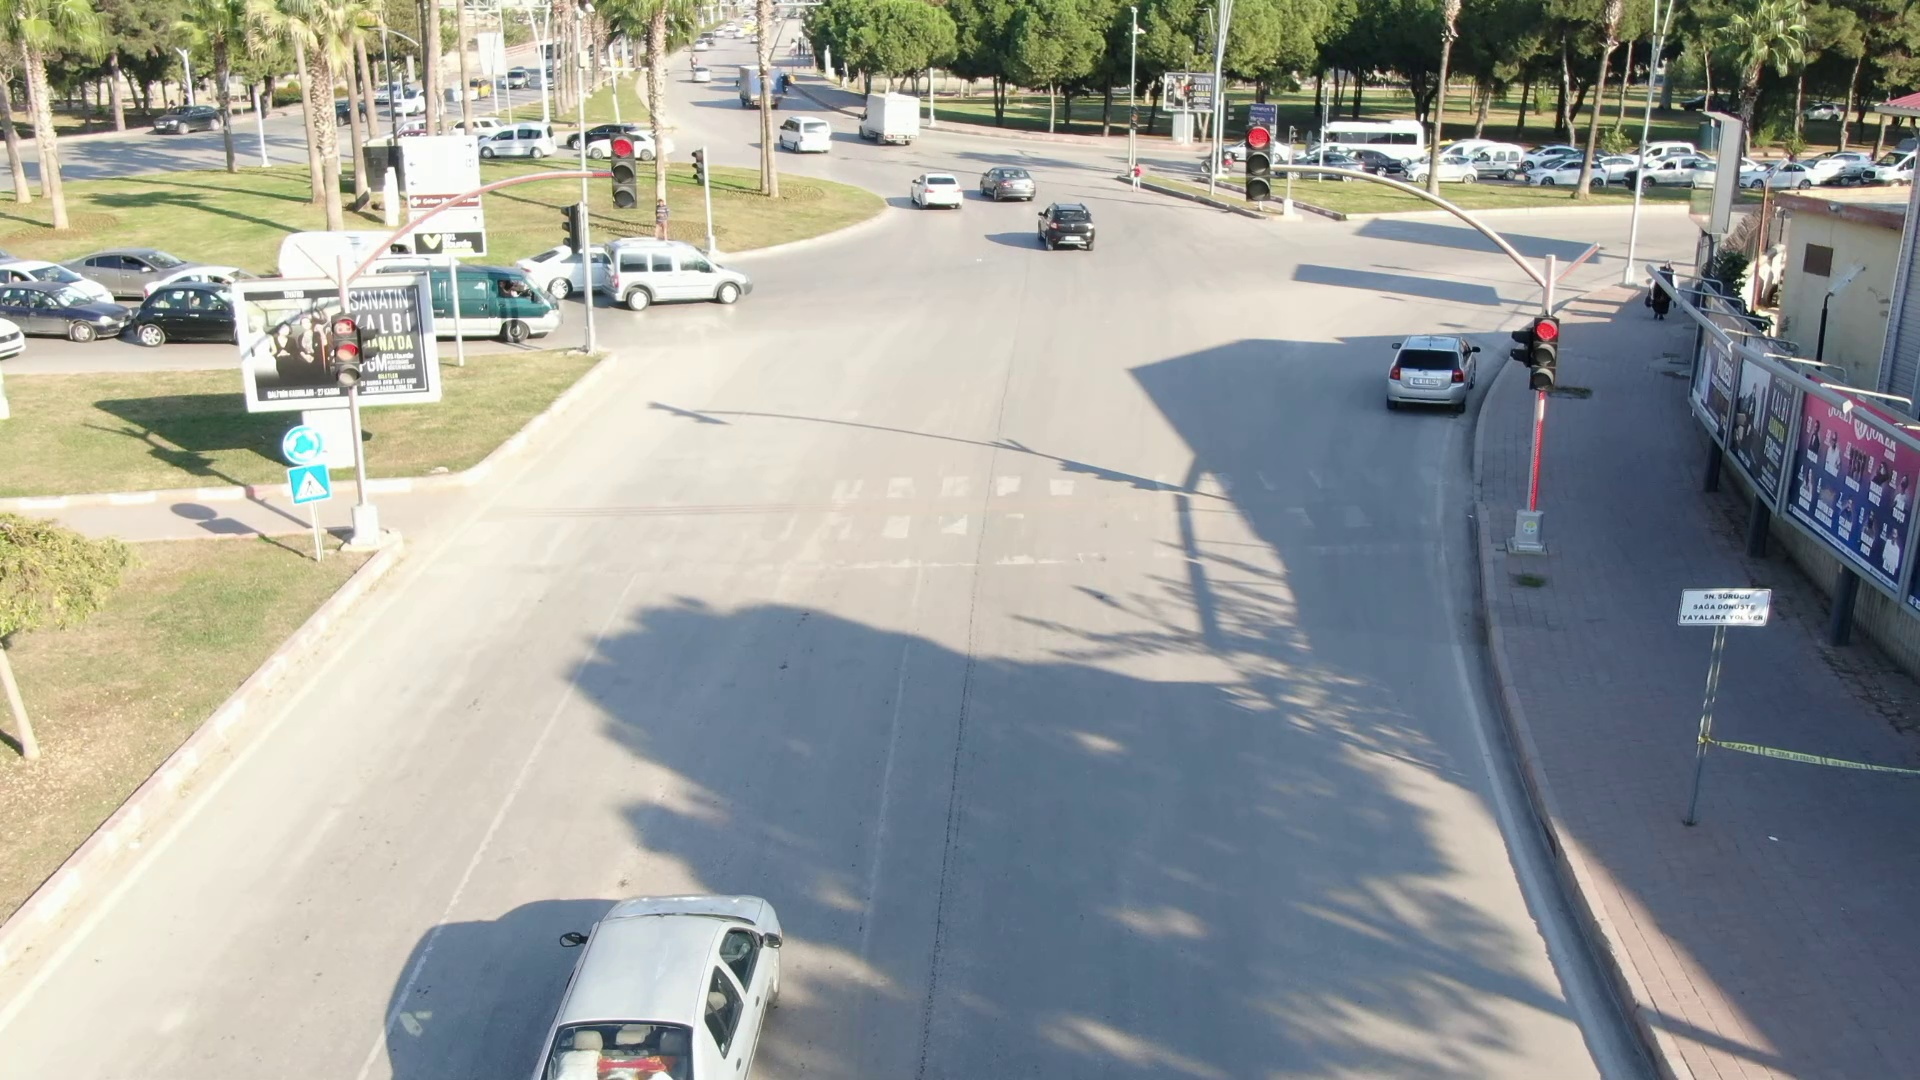car: (491, 841, 820, 1080), (592, 232, 783, 328), (1364, 313, 1458, 429), (1018, 190, 1112, 260), (849, 88, 942, 150), (886, 164, 973, 214), (969, 154, 1047, 204), (766, 111, 844, 152)
